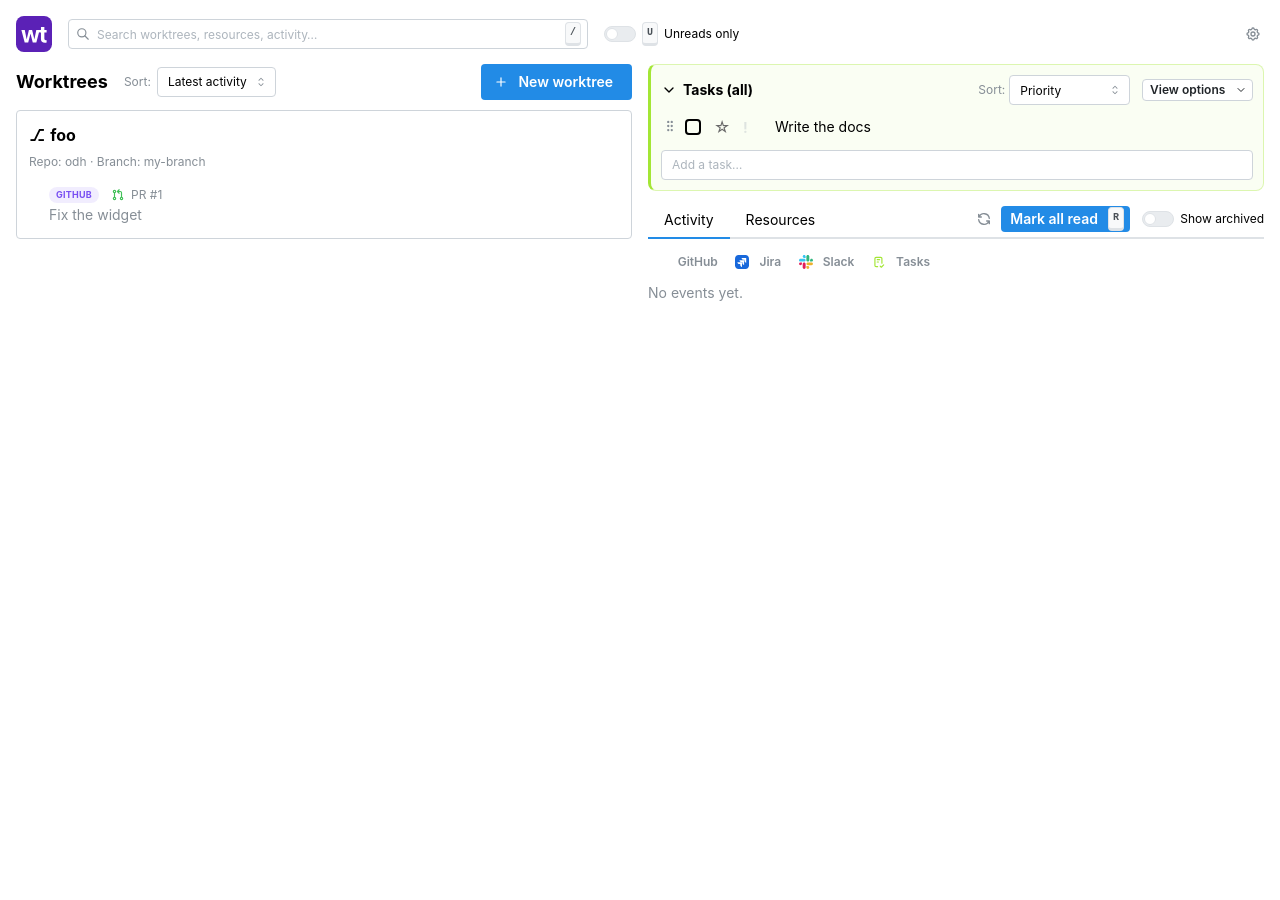
Test case: HomePage mark all read › offers it over the whole feed, counting every worktree's resources
Click the button "Mark all read R" at (1066, 219), box [1001,206,1130,232]
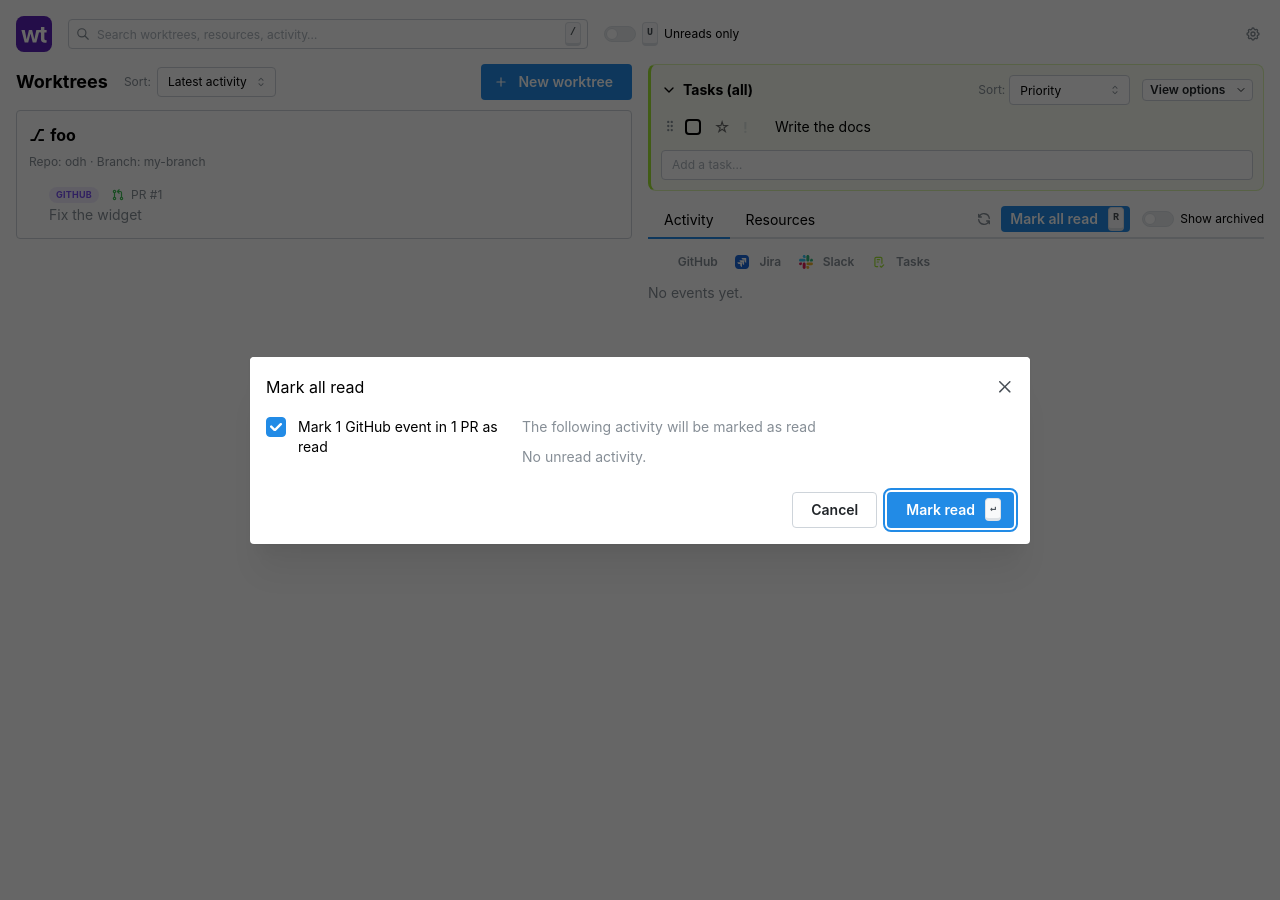
Now the checkbox labelled "Mark 1 GitHub event in 1 PR as read" is checked, box [266,417,286,437]
